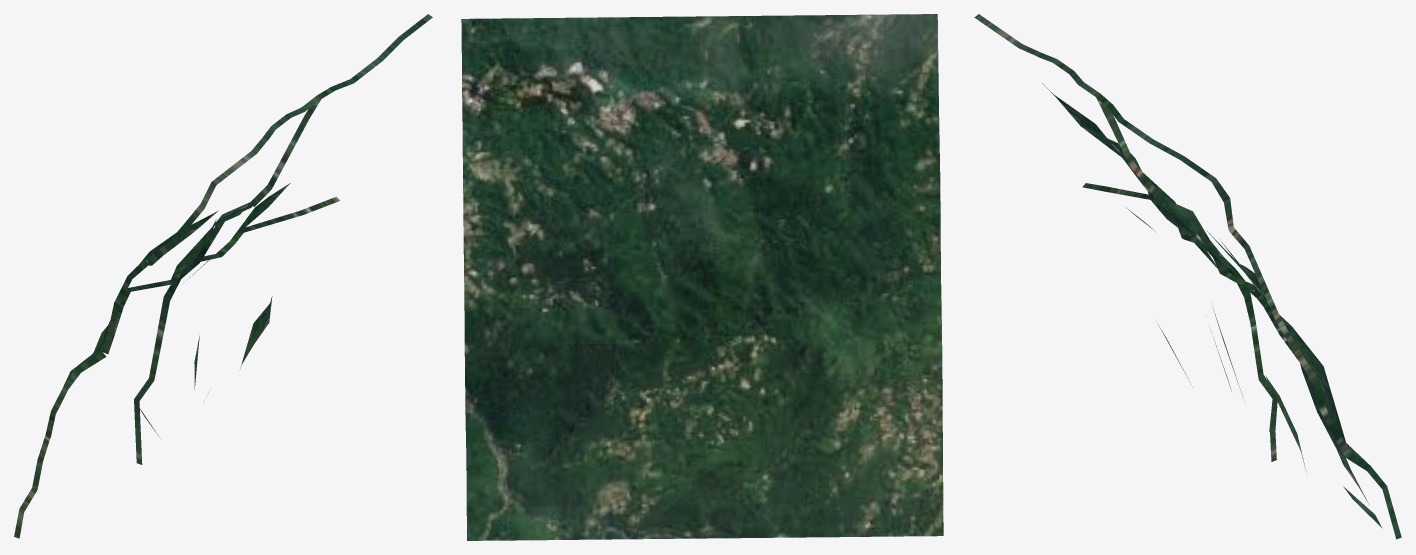
The picture shows the model from 3 angles, left to right: view 1: azimuth 30°, elevation 25°; view 2: azimuth 150°, elevation 25°; view 3: azimuth 270°, elevation 25°; orthographic projection. The views are drawn at different scales.
Size of the model in its own units: 4979 by 4481 by 4177.
Materials: 1 (1 with a texture image).
